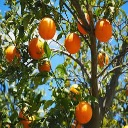orange: (94, 16, 114, 44), (28, 37, 47, 61), (38, 16, 56, 40), (74, 101, 92, 124), (63, 32, 82, 53)
